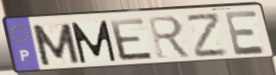E: (107, 17, 156, 63), (222, 9, 268, 57)
M: (29, 22, 82, 68), (69, 19, 119, 65)
R: (146, 15, 194, 60)
Z: (185, 11, 230, 60)
